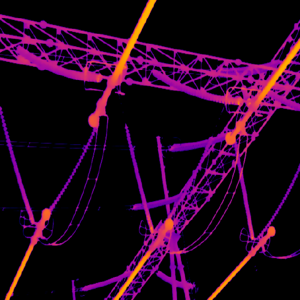insulator: (0, 103, 33, 223), (49, 126, 94, 210), (15, 43, 100, 85), (255, 161, 300, 239), (151, 67, 240, 106), (123, 123, 154, 233), (168, 128, 228, 151), (131, 186, 191, 207), (79, 267, 135, 288), (154, 268, 195, 288)
